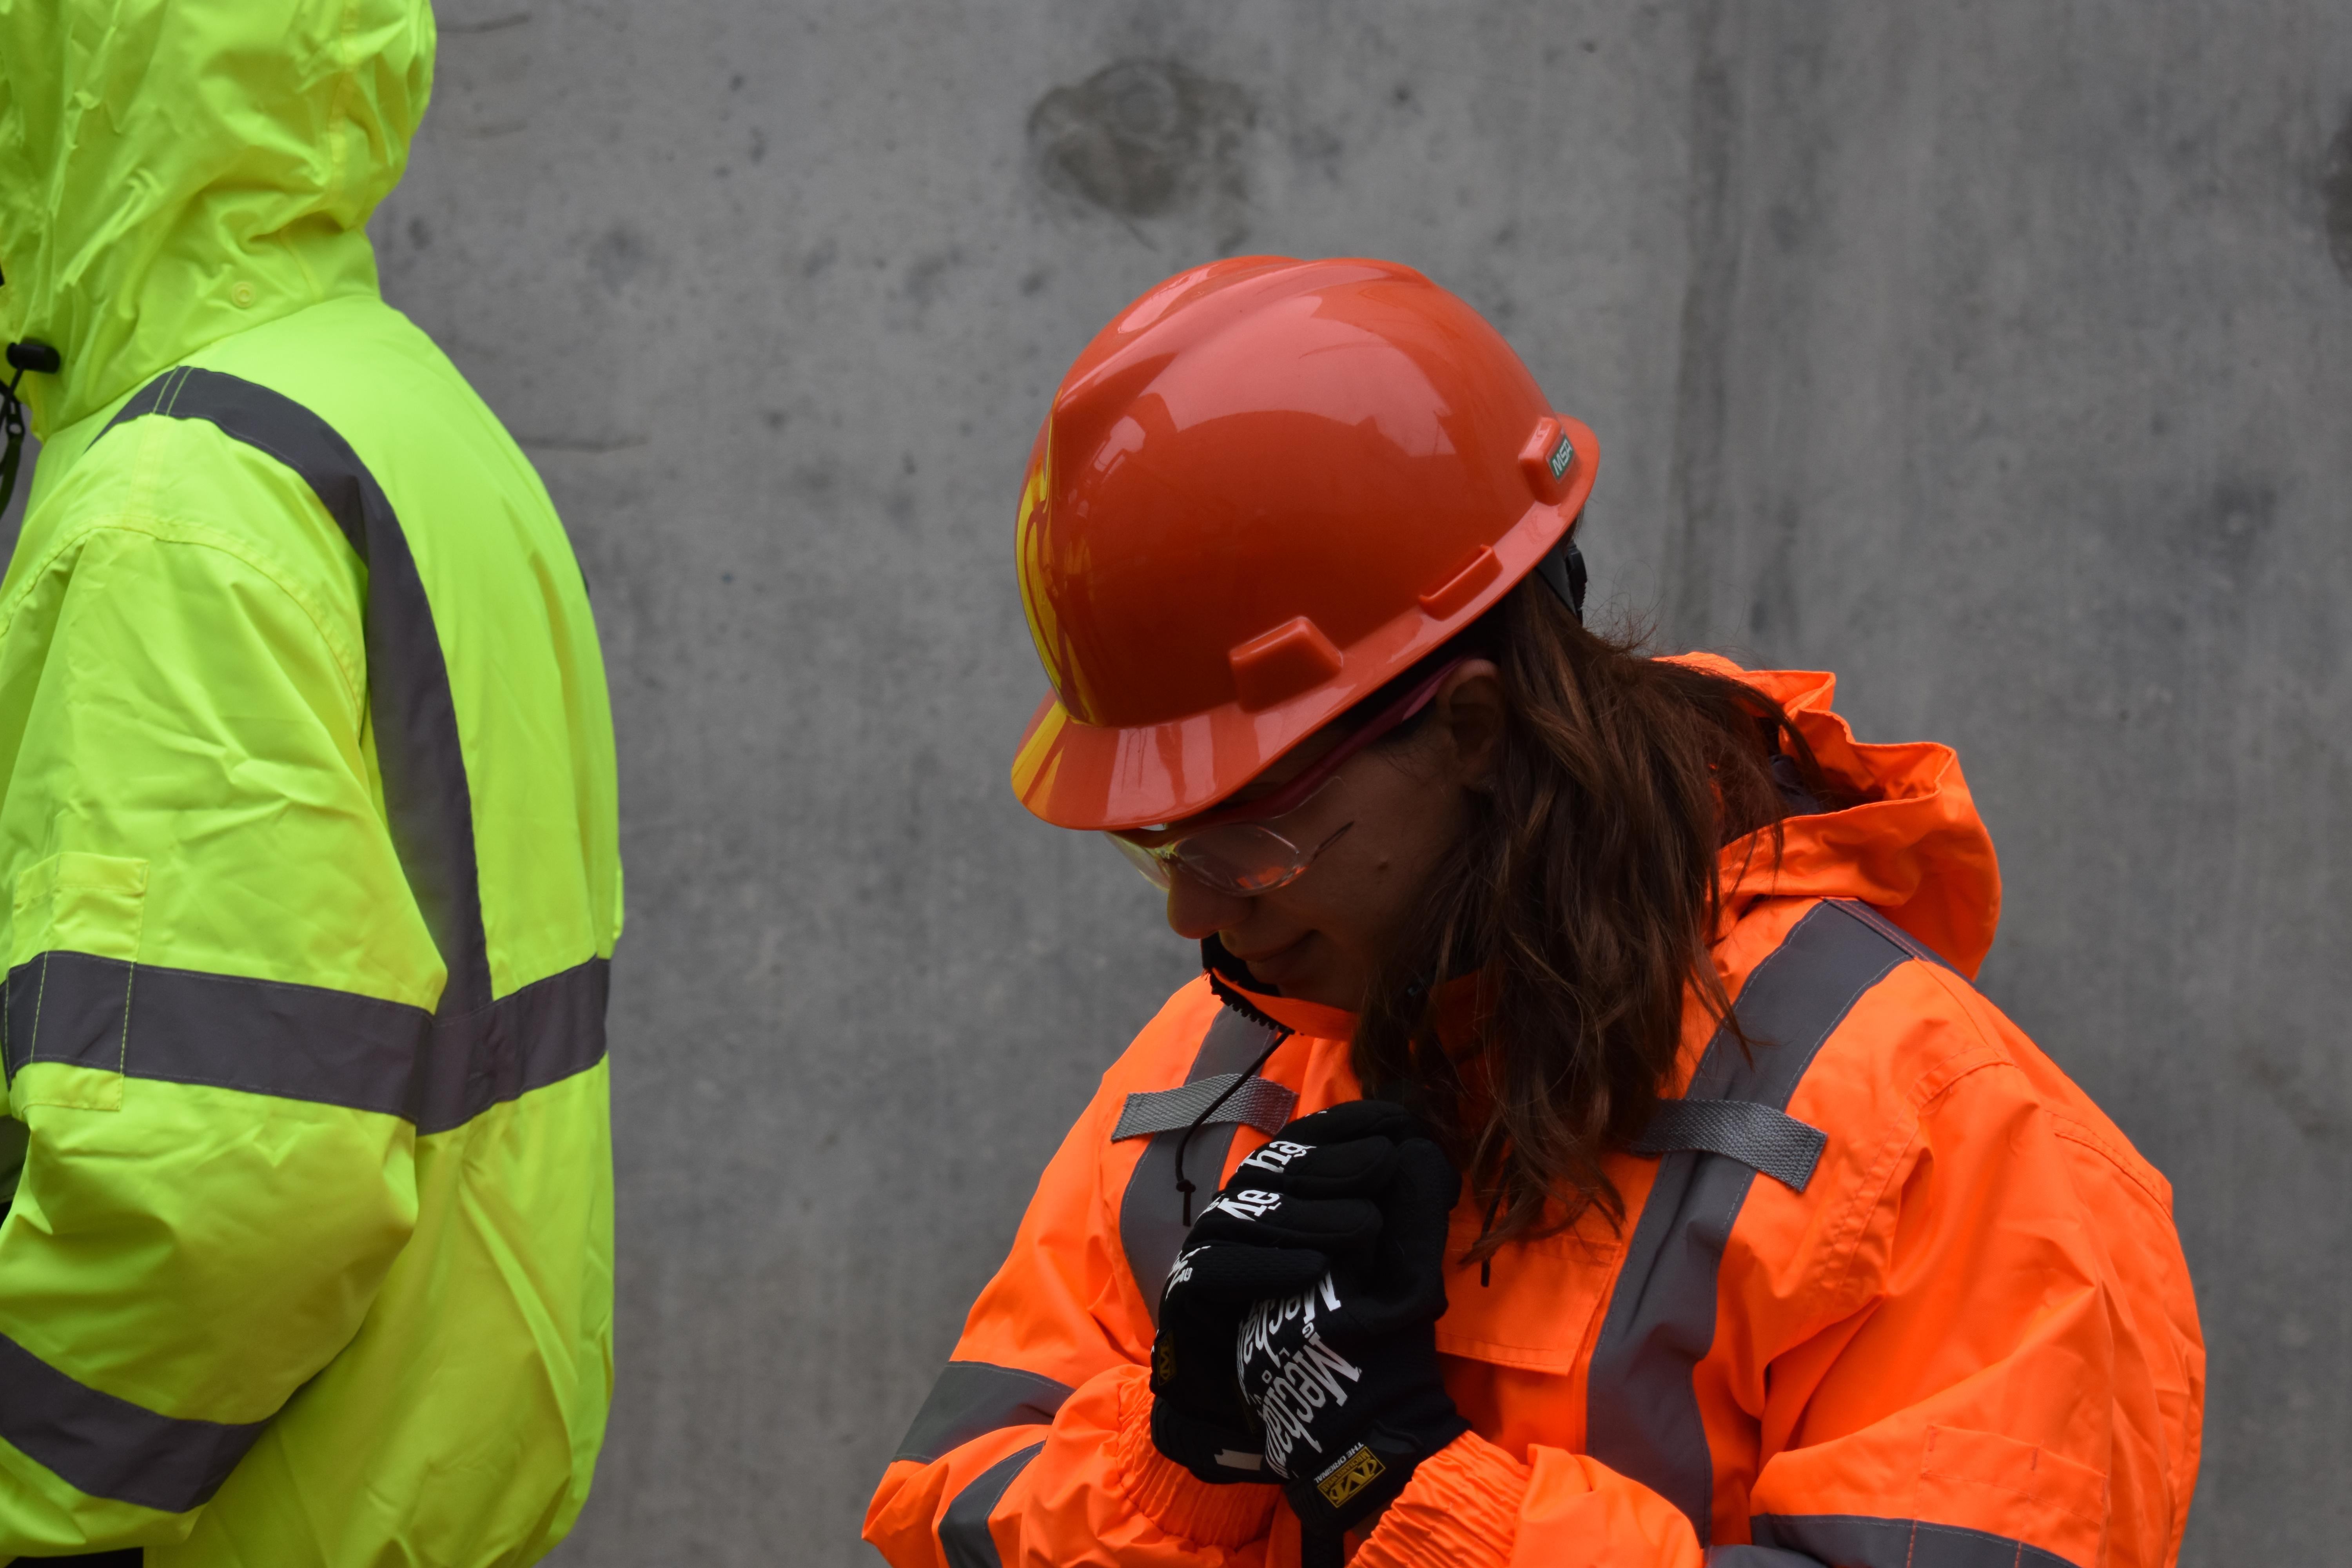hardhat: (1004, 257, 1601, 833)
worker: (865, 242, 2207, 1567)
